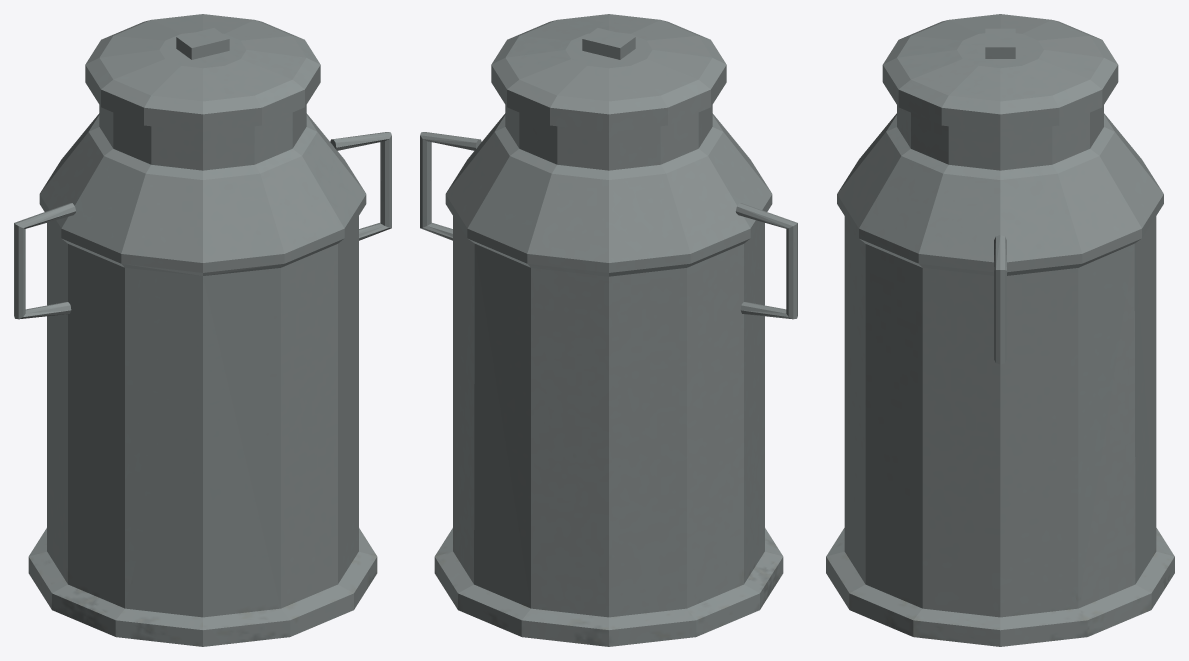
The model's file is farmland_farm_small_clutter_milk-can.glb.
The picture shows the model from 3 angles, left to right: view 1: azimuth 30°, elevation 25°; view 2: azimuth 150°, elevation 25°; view 3: azimuth 270°, elevation 25°; orthographic projection.
Parts seen in each view (by area): view 1: FarmClutterMilkCan; view 2: FarmClutterMilkCan; view 3: FarmClutterMilkCan.
Part boxes in pixels (bbox=[...]): FarmClutterMilkCan: bbox=[14, 14, 391, 646]; FarmClutterMilkCan: bbox=[420, 14, 797, 646]; FarmClutterMilkCan: bbox=[826, 14, 1174, 646].
Size of the model in its own units: 0.3986 by 0.55 by 0.32.
Materials: 1 (1 with a texture image).
